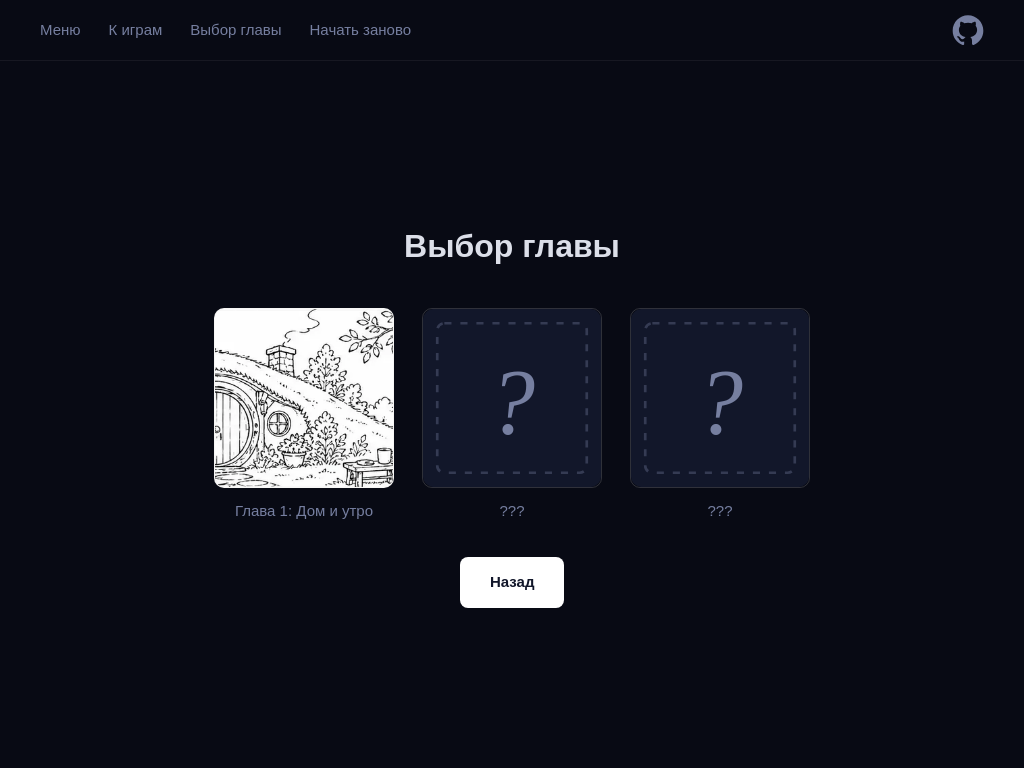
routing: back button on the chapter screen › falls back to the menu on a direct visit with no history
The width and height of the screenshot is (1024, 768).
Click the button "Назад" at (512, 582), box left=460, top=557, right=564, bottom=607
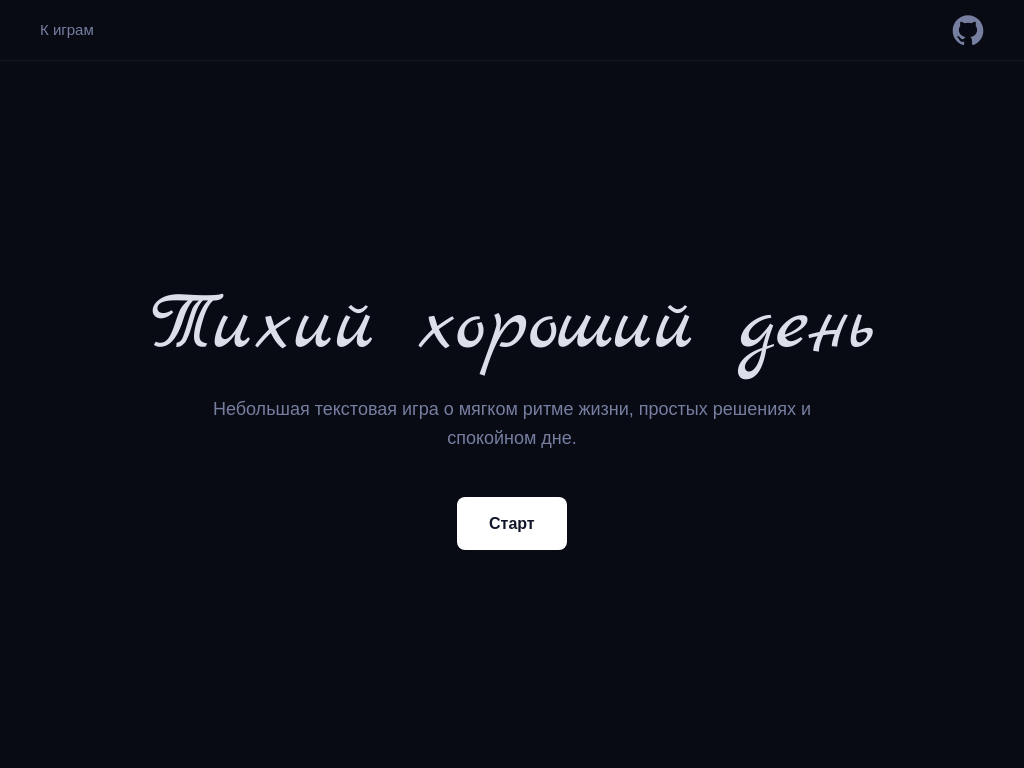
Now the heading "Тихий хороший день" is shown, box left=151, top=279, right=873, bottom=375
